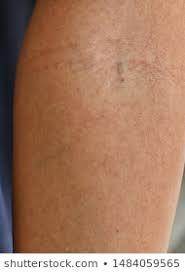Goosebumps: (13, 0, 184, 251)
